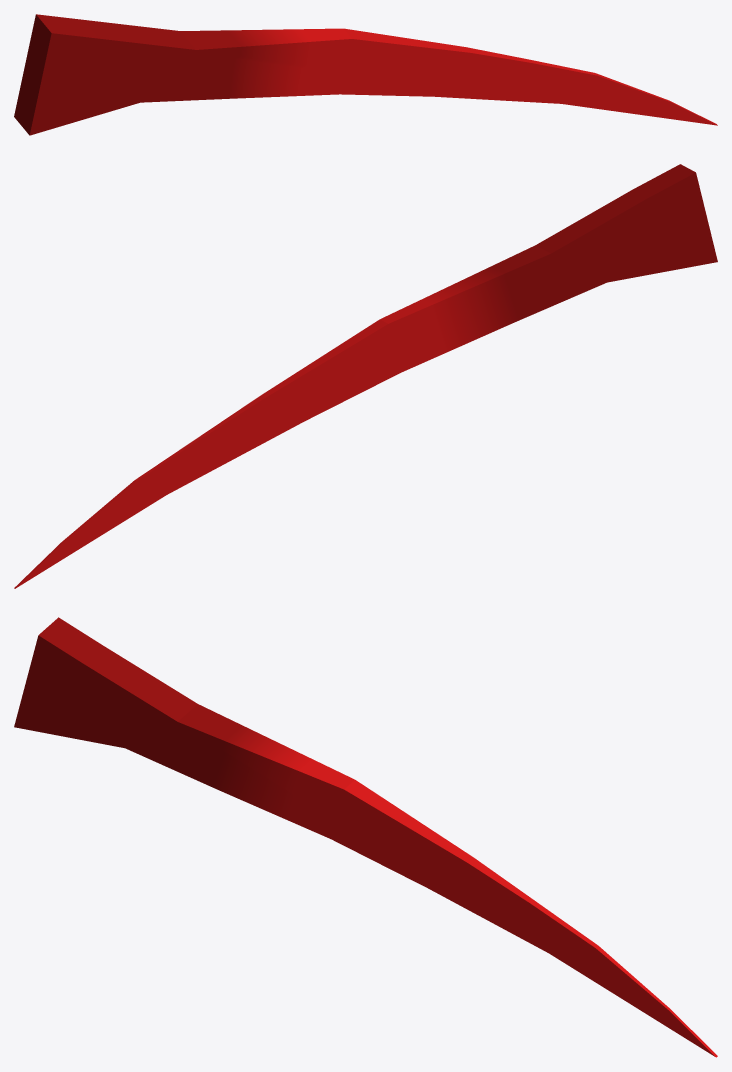
Rendered from hand knife.fbx.
3 renders of one model, top to bottom at view 1: azimuth 30°, elevation 25°; view 2: azimuth 210°, elevation 25°; view 3: azimuth 330°, elevation 25°, orthographic.
Visible parts, largest first — view 1: Hand_Knife2; view 2: Hand_Knife2; view 3: Hand_Knife2.
Boxes of the visible parts, x1,y1,x2,y2 form: Hand_Knife2: [14, 14, 717, 135]; Hand_Knife2: [14, 164, 717, 588]; Hand_Knife2: [14, 617, 717, 1057].
Size of the model in its own units: 28.26 by 10.27 by 1.49.
